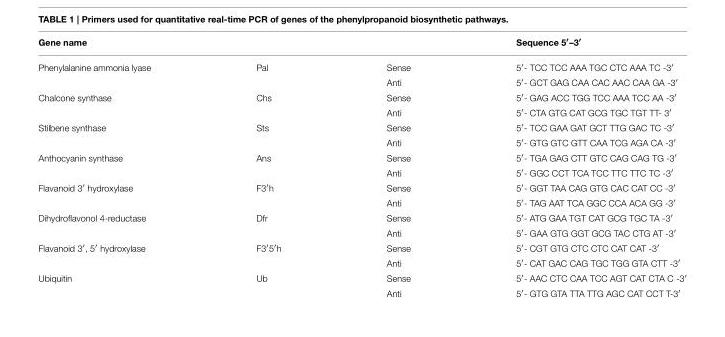table: (37, 37, 685, 297)
table column: (462, 37, 685, 297), (37, 37, 202, 297), (202, 37, 333, 297), (333, 37, 462, 297)
table column header: (37, 37, 685, 54)
table row: (37, 54, 685, 74), (37, 37, 685, 54), (37, 224, 685, 240), (37, 74, 685, 89), (37, 89, 685, 104), (37, 104, 685, 119), (37, 119, 685, 134), (37, 134, 685, 149), (37, 149, 685, 164), (37, 164, 685, 179), (37, 179, 685, 194), (37, 194, 685, 209), (37, 209, 685, 224), (37, 240, 685, 255), (37, 255, 685, 270), (37, 270, 685, 285), (37, 285, 685, 297)
table spanning cell: (37, 54, 202, 89), (37, 209, 202, 240), (37, 89, 202, 119), (37, 119, 202, 149), (37, 149, 202, 179), (37, 179, 202, 209), (37, 240, 202, 270), (37, 270, 202, 297)
